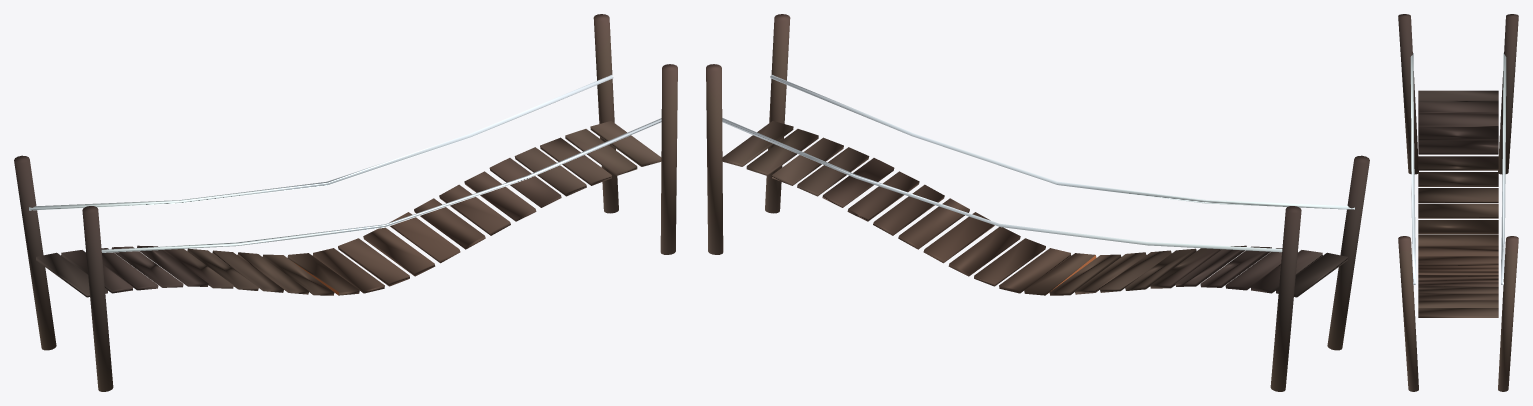
Rendered from WoodenShortRopeWavyBridge.glb.
The picture shows the model from 3 angles, left to right: view 1: azimuth 30°, elevation 25°; view 2: azimuth 150°, elevation 25°; view 3: azimuth 270°, elevation 25°; orthographic projection. The views are drawn at different scales.
Visible parts, largest first — view 1: WoodenShortRopeWavyBridge; view 2: WoodenShortRopeWavyBridge; view 3: WoodenShortRopeWavyBridge.
Part boxes in pixels (x1=…): WoodenShortRopeWavyBridge: x1=14, y1=14, x2=677, y2=391; WoodenShortRopeWavyBridge: x1=706, y1=14, x2=1369, y2=391; WoodenShortRopeWavyBridge: x1=1398, y1=14, x2=1518, y2=391.
Size of the model in its own units: 9.02 by 2.74 by 2.
1 material, 1 textured.
